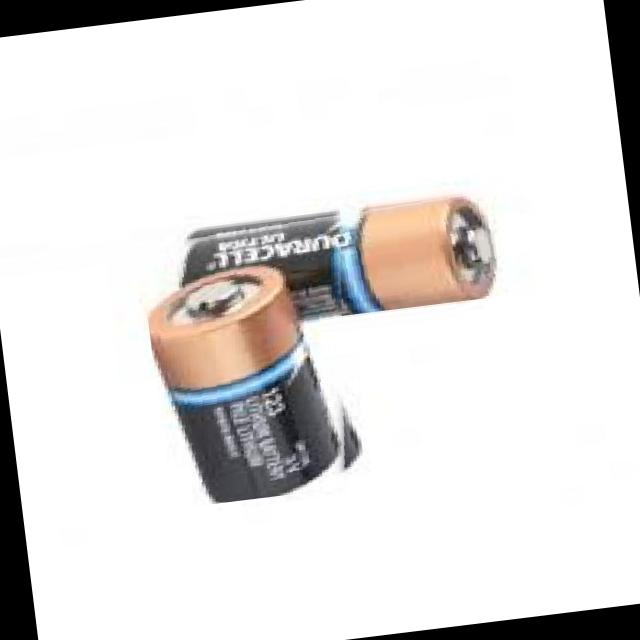Hazard: (140, 246, 368, 509), (170, 190, 500, 334)
